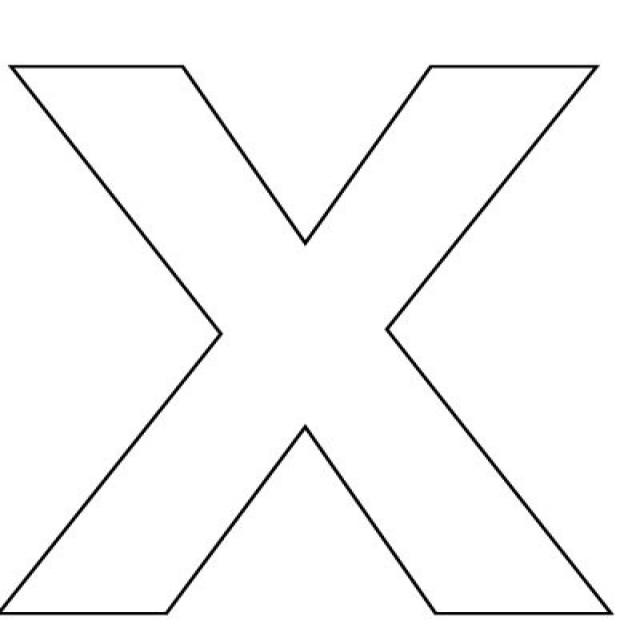X: (6, 20, 630, 634)
